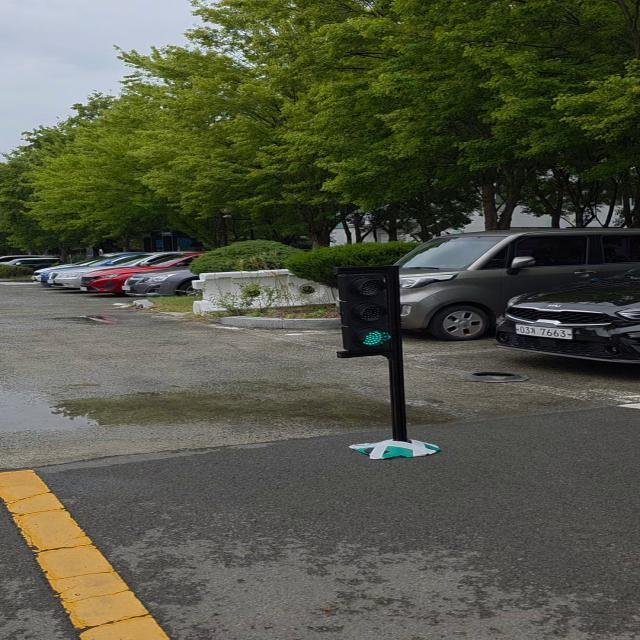green: (335, 265, 407, 357)
